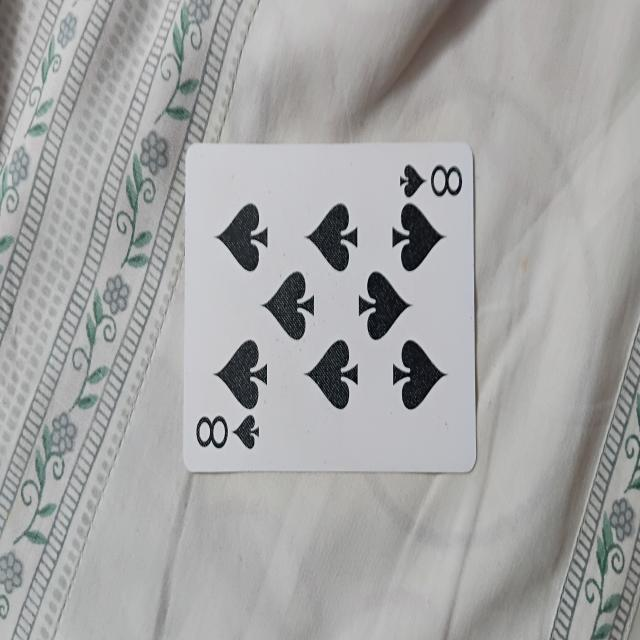8S: (188, 145, 472, 470)
